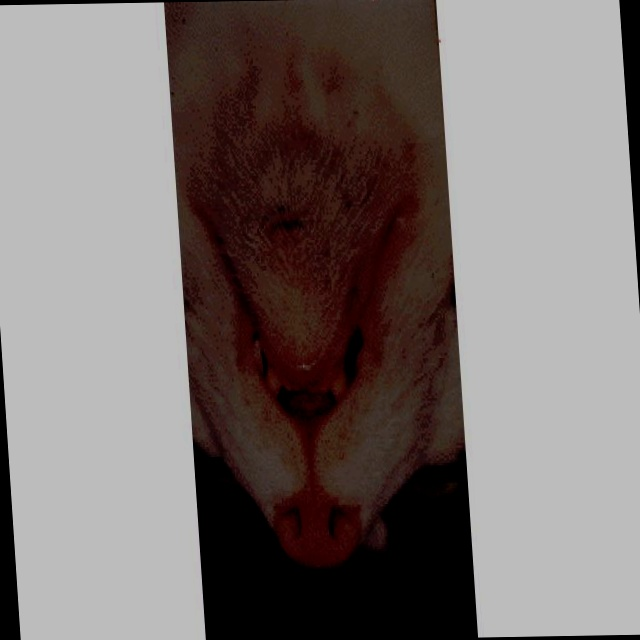acne: (271, 195, 308, 247)
